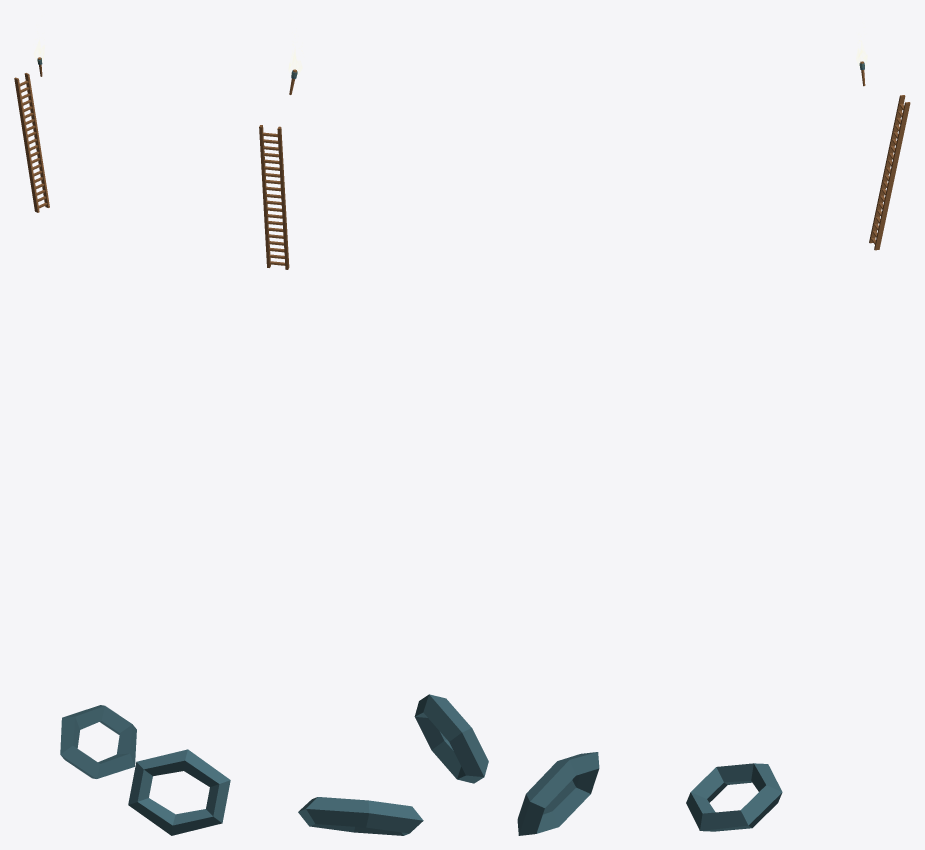
3 views of the same model, side by side, from view 1: azimuth 30°, elevation 25°; view 2: azimuth 150°, elevation 25°; view 3: azimuth 270°, elevation 25° (orthographic). The views are drawn at different scales.
Visible parts, largest first — view 1: Torus034_metal_0, Torus038_metal_0, Box370_brown_0; view 2: Torus034_metal_0, Torus038_metal_0, Box370_brown_0; view 3: Torus034_metal_0, Torus038_metal_0, Box370_brown_0.
Boxes of the visible parts, x1=… form: Torus034_metal_0: x1=128, y1=749, x2=230, y2=835; Torus038_metal_0: x1=60, y1=705, x2=136, y2=778; Box370_brown_0: x1=14, y1=73, x2=49, y2=212; Torus034_metal_0: x1=414, y1=694, x2=488, y2=783; Torus038_metal_0: x1=298, y1=797, x2=423, y2=835; Box370_brown_0: x1=259, y1=125, x2=289, y2=269; Torus034_metal_0: x1=517, y1=752, x2=599, y2=835; Torus038_metal_0: x1=686, y1=763, x2=782, y2=831; Box370_brown_0: x1=869, y1=95, x2=910, y2=250.
Size of the model in its own units: 373 by 2875 by 1249.
